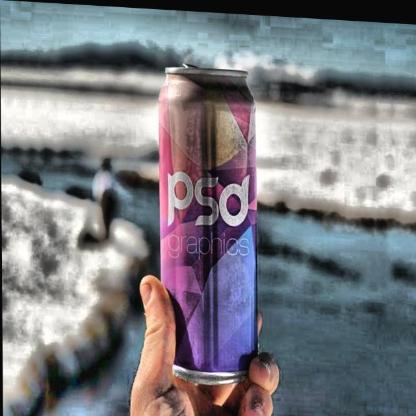Can: (158, 65, 258, 386)
